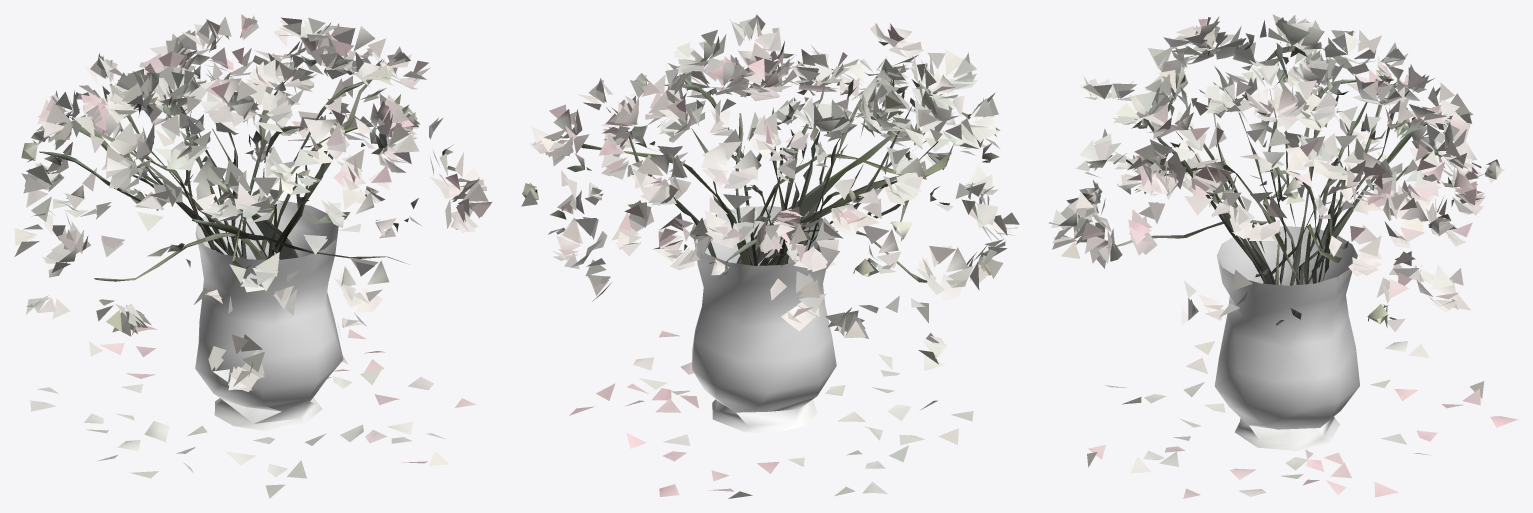
Rendered from Vase0009.obj.
The picture shows the model from 3 angles, left to right: view 1: azimuth 30°, elevation 25°; view 2: azimuth 150°, elevation 25°; view 3: azimuth 270°, elevation 25°; orthographic projection. The views are drawn at different scales.
Bounding box in the file's own units: 0.684 × 0.574 × 0.659.
1 material, 1 textured.
